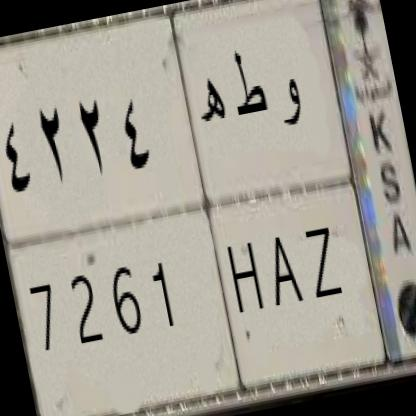english: (0, 152, 392, 416)
